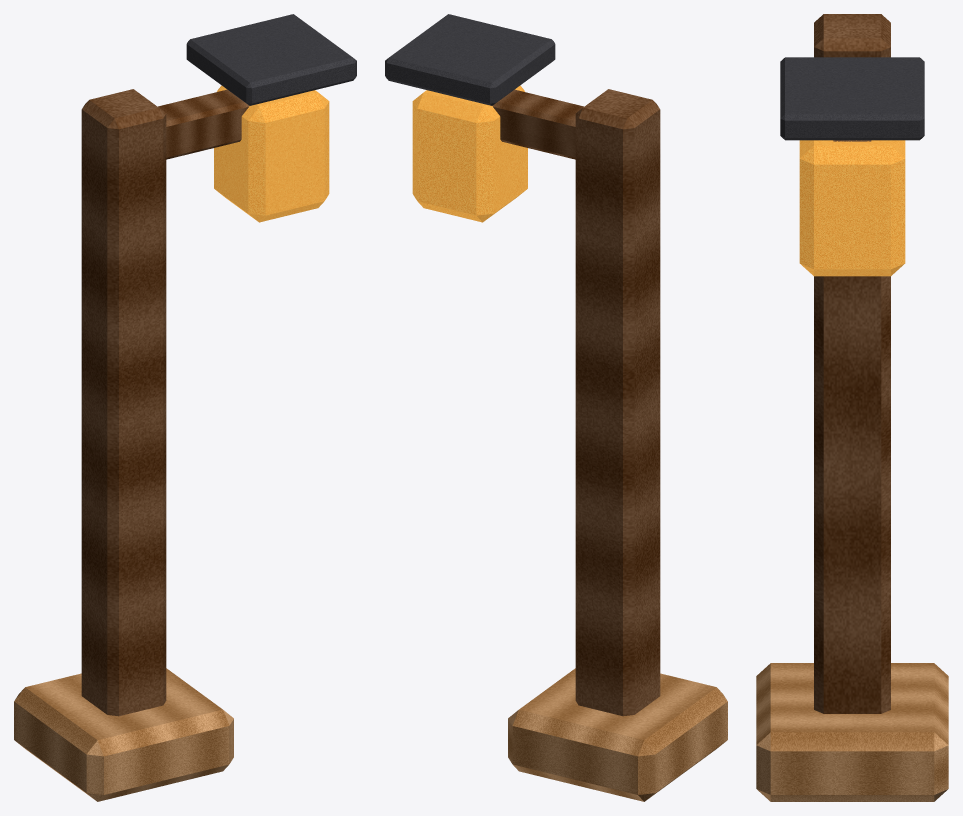
The model's file is lantern_post.glb.
3 renders of one model, left to right at view 1: azimuth 30°, elevation 25°; view 2: azimuth 150°, elevation 25°; view 3: azimuth 270°, elevation 25°, orthographic. The views are drawn at different scales.
Visible parts, largest first — view 1: lantern_post_Timber, lantern_post_Sandstone, lantern_post_Lantern, lantern_post_Iron; view 2: lantern_post_Timber, lantern_post_Sandstone, lantern_post_Lantern, lantern_post_Iron; view 3: lantern_post_Timber, lantern_post_Sandstone, lantern_post_Lantern, lantern_post_Iron.
Boxes of the visible parts, box(x1,y1,x2,y2) form: lantern_post_Timber: box(81, 89, 249, 716); lantern_post_Sandstone: box(14, 668, 233, 801); lantern_post_Lantern: box(214, 85, 329, 222); lantern_post_Iron: box(186, 14, 356, 105); lantern_post_Timber: box(492, 89, 660, 716); lantern_post_Sandstone: box(508, 668, 727, 801); lantern_post_Lantern: box(412, 85, 527, 222); lantern_post_Iron: box(385, 14, 555, 105); lantern_post_Timber: box(814, 14, 890, 713); lantern_post_Sandstone: box(756, 663, 948, 801); lantern_post_Lantern: box(799, 140, 905, 276); lantern_post_Iron: box(780, 57, 924, 140).
Size of the model in its own units: 0.75 by 1.75 by 0.4.
Materials: 4 (4 with a texture image).
